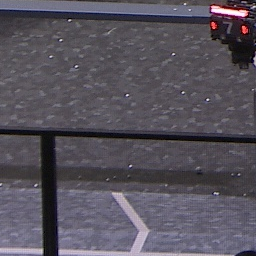Red: (209, 16, 250, 38)
Robot: (209, 1, 256, 69)
